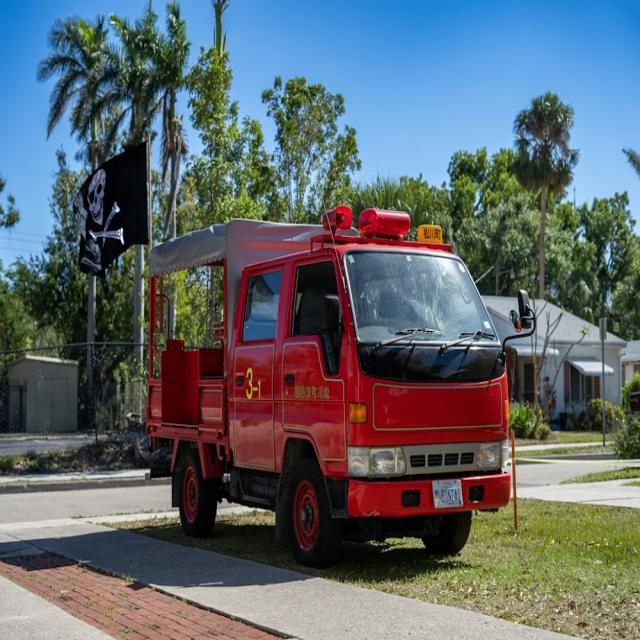emergency: (146, 206, 535, 566)
